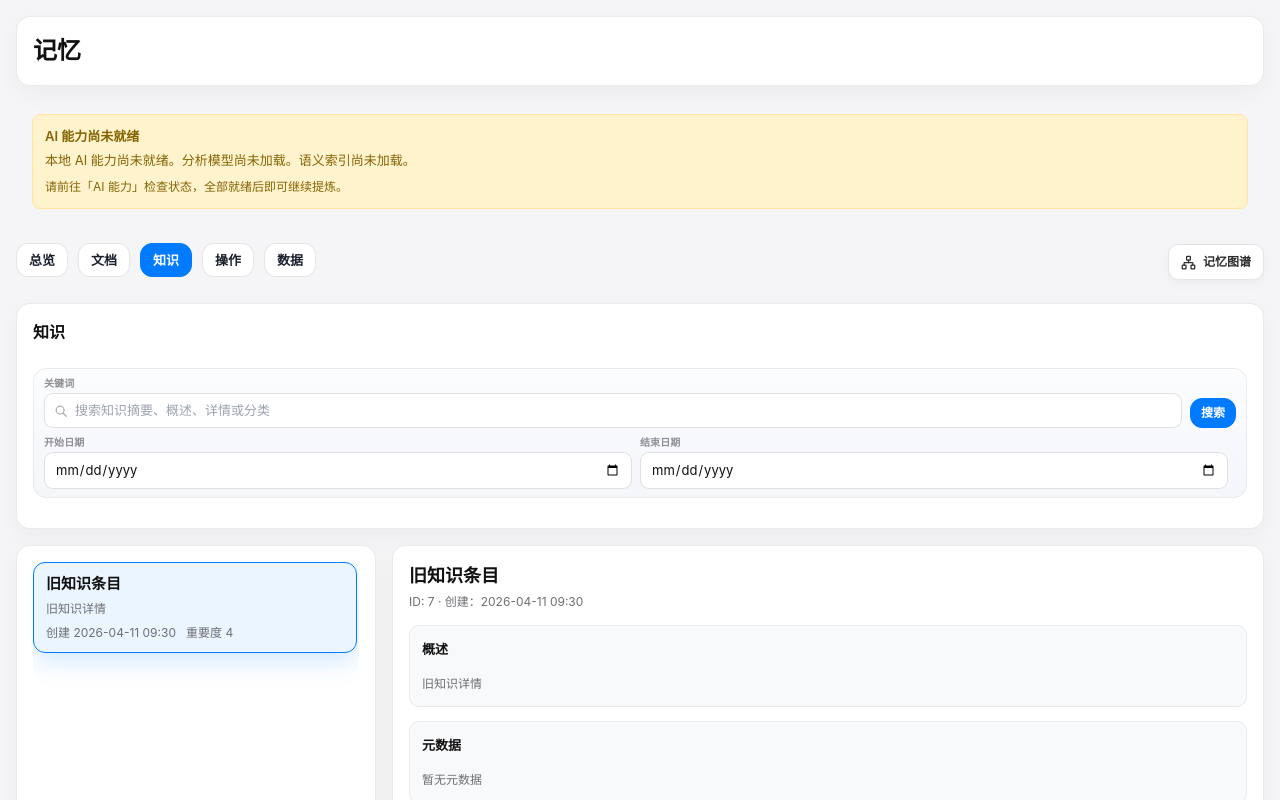
显式搜索交互 › BakePanel 知识搜索无结果后不保留旧详情
Expected: the 1st text "旧知识条目" is shown, [46,574,121,593]
Type "不存在" into the field with placeholder "搜索知识摘要、概述、详情或分类" at (613, 410), box [44,393,1182,428]
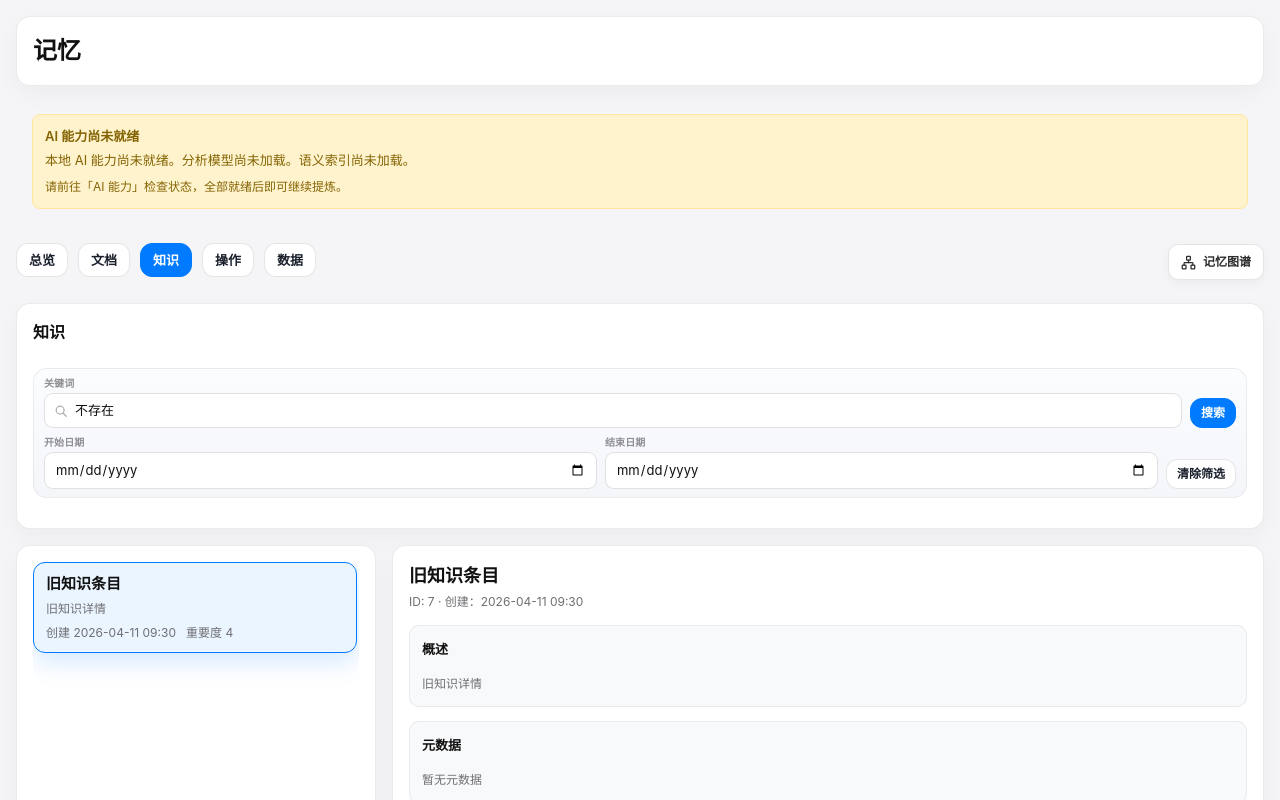
Click the button "搜索" at (1213, 413), box [1190,398,1236,428]
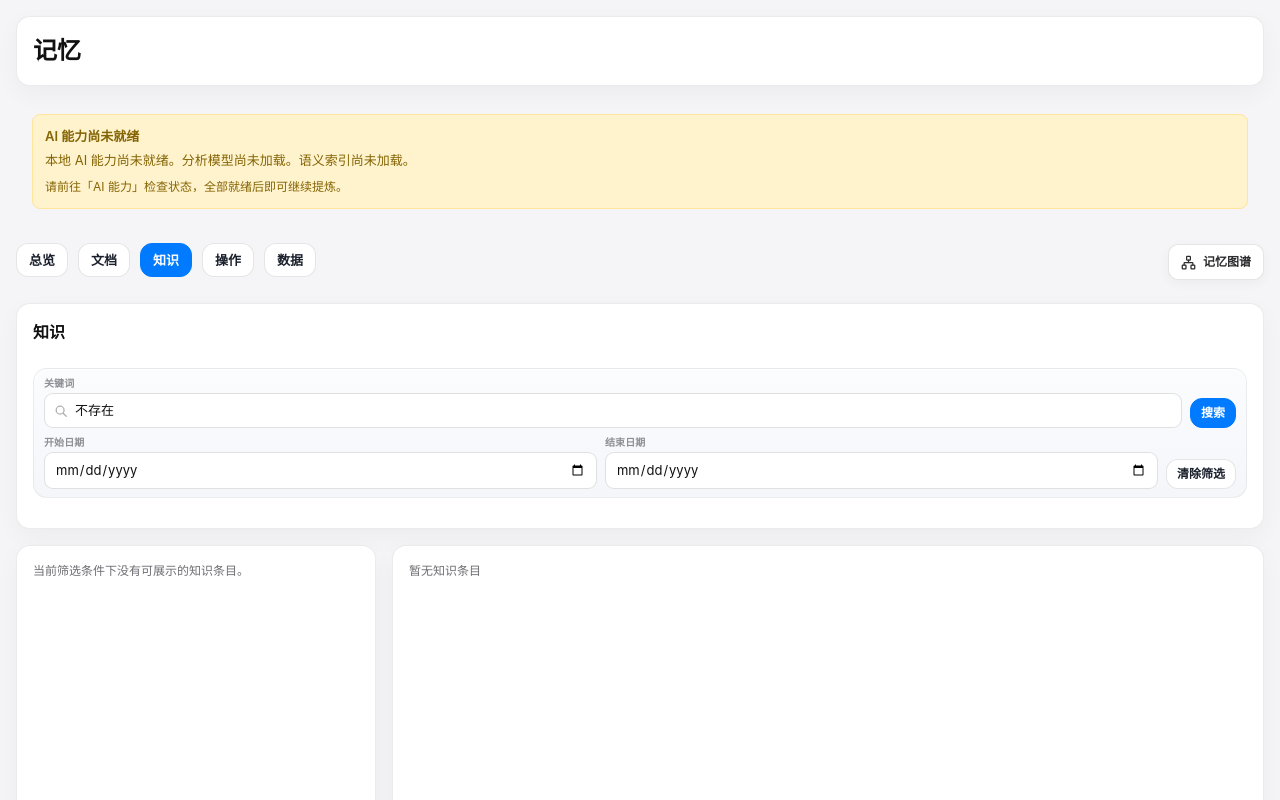
Result: the text "当前筛选条件下没有可展示的知识条目。" is shown at [33,563,249,578]
Result: the button "旧知识详情" is gone
